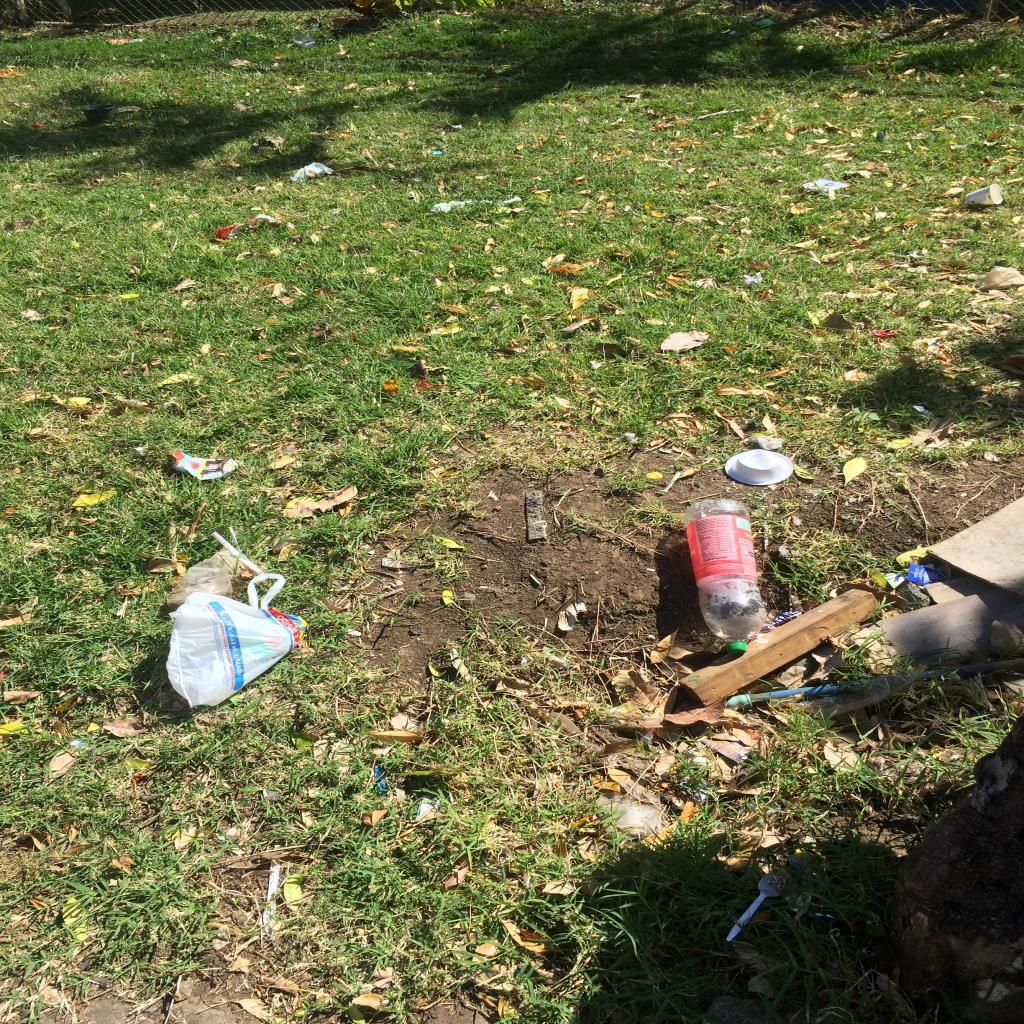Clear plastic bottle: (684, 498, 768, 654)
Other carton: (906, 564, 946, 584)
Other plastic: (748, 610, 803, 644), (700, 732, 754, 764)
Other plastic wrapper: (595, 790, 661, 836), (262, 844, 280, 940)
Paper cup: (966, 184, 1004, 206)
Plastic bottle cap: (726, 644, 748, 654)
Plastic film: (167, 554, 233, 608), (977, 265, 1023, 292)
Plastic straw: (210, 532, 264, 574)
Single-use carrier bag: (166, 574, 307, 708)
Unlabeled litter: (171, 451, 241, 480), (430, 196, 522, 212), (416, 793, 440, 819), (802, 179, 850, 191), (372, 766, 388, 796), (882, 572, 908, 588), (913, 406, 933, 416), (433, 150, 443, 154)
